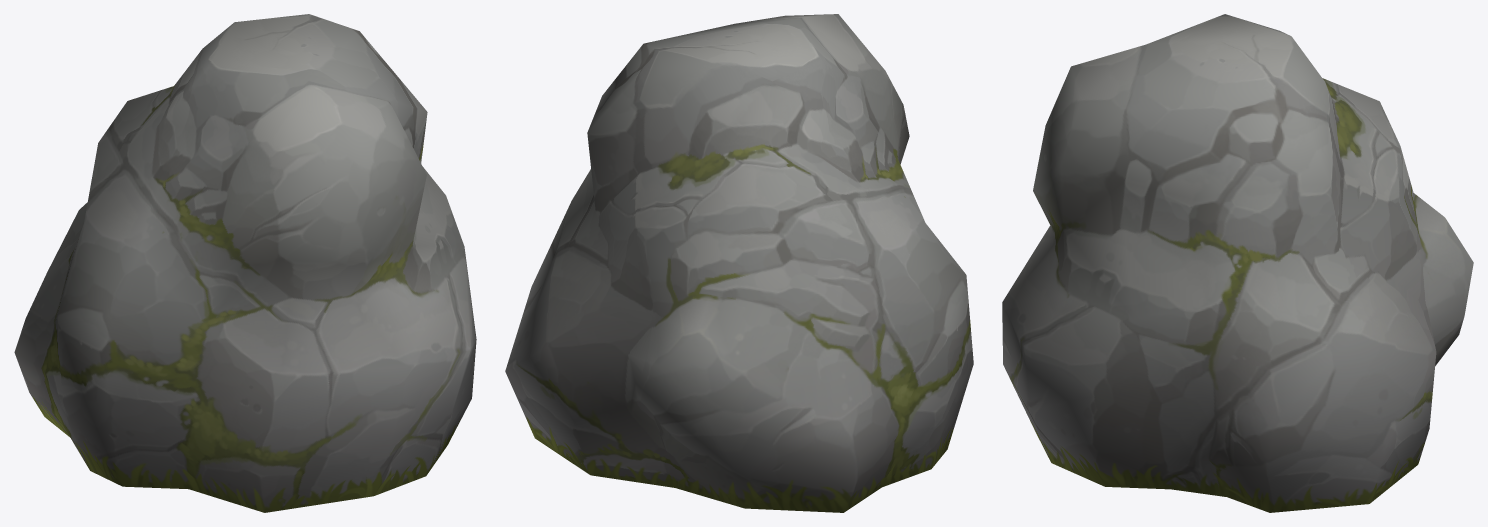
The model's file is Na_Rock_02.FBX.
3 views of the same model, side by side, from view 1: azimuth 30°, elevation 25°; view 2: azimuth 150°, elevation 25°; view 3: azimuth 270°, elevation 25° (orthographic).
Parts seen in each view (by area): view 1: Na_Rock_02; view 2: Na_Rock_02; view 3: Na_Rock_02.
Part boxes in pixels (x1,y1,x2,y2): Na_Rock_02: [14, 14, 476, 512]; Na_Rock_02: [505, 14, 973, 512]; Na_Rock_02: [1002, 14, 1473, 512].
Bounding box in the file's own units: 5.5 × 5.02 × 5.49.
